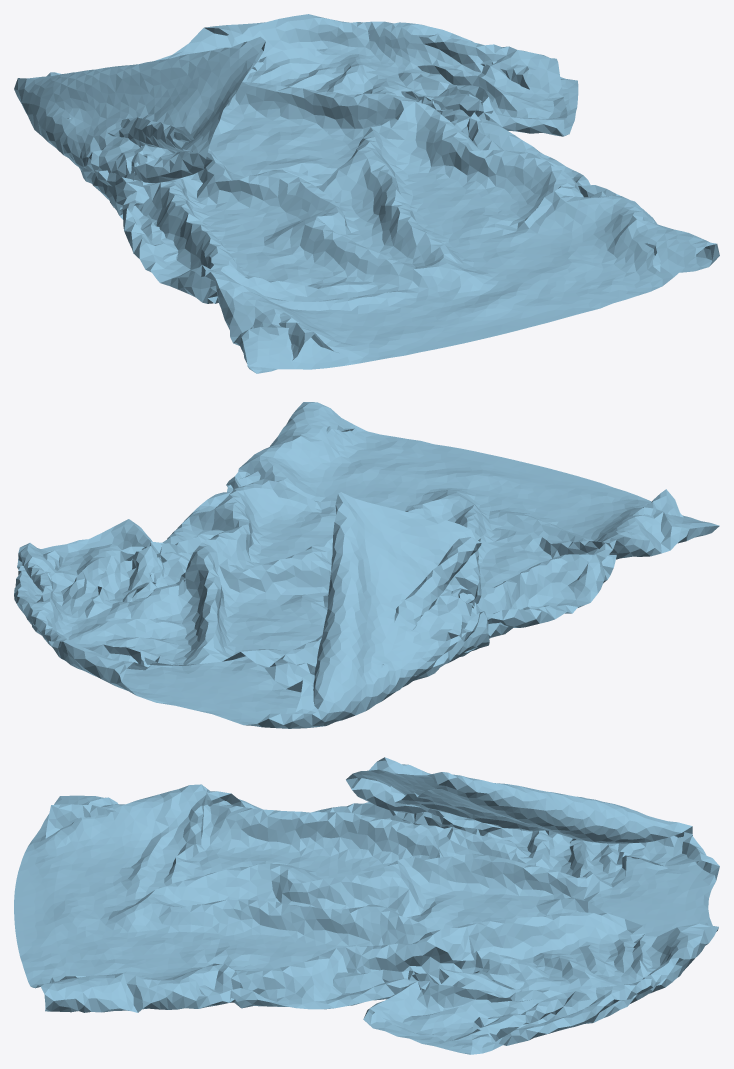
File: frame_17.glb
3 views of the same model, one above another, from view 1: azimuth 30°, elevation 25°; view 2: azimuth 150°, elevation 25°; view 3: azimuth 270°, elevation 25° (orthographic). The views are drawn at different scales.
Parts seen in each view (by area): view 1: frame_17.obj; view 2: frame_17.obj; view 3: frame_17.obj.
Part boxes in pixels (x1,y1,x2,y2): frame_17.obj: (14, 14, 719, 373); frame_17.obj: (14, 402, 719, 728); frame_17.obj: (14, 757, 719, 1054).
Bounding box in the file's own units: 1.47 × 0.3677 × 1.73.
